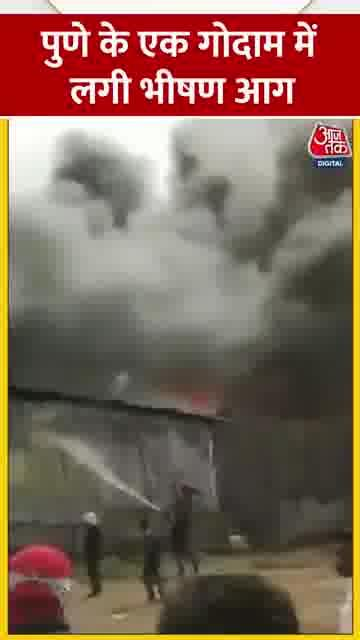fire: (36, 1, 342, 114)
smoke: (48, 125, 356, 424)
